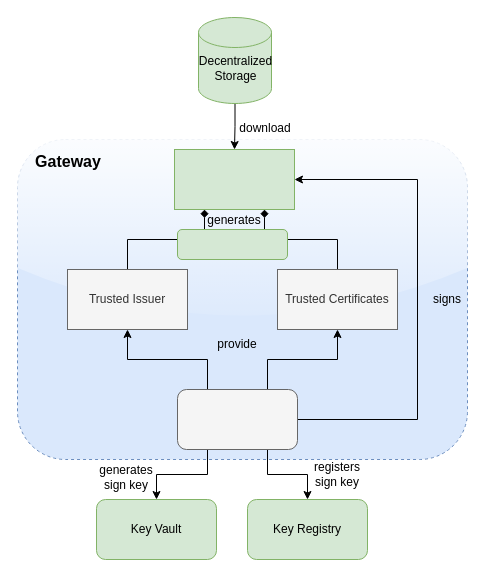
The diagram is 495 pixels wide and 577 high, and some of its shapes have lost their labels. Each missing label, with the centre of its shape:
Core Service: (x=237, y=419)
DID Document: (x=234, y=179)
DID Document Generator: (x=232, y=244)
